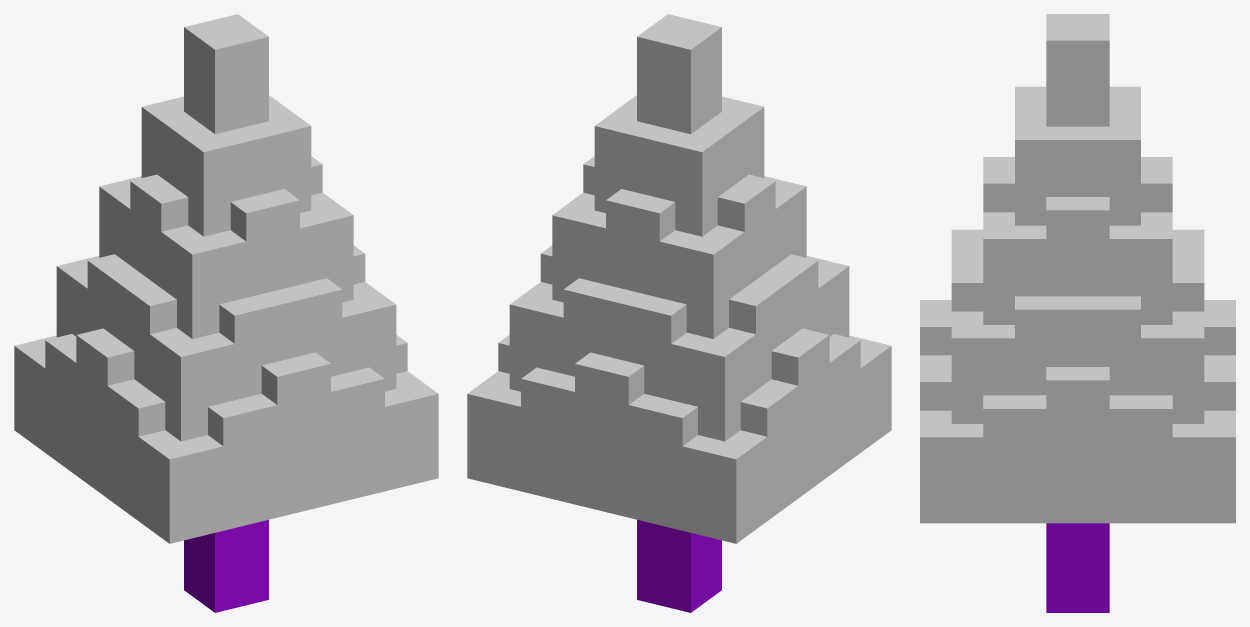
The model's file is Tree.fbx.
The picture shows the model from 3 angles, left to right: view 1: azimuth 30°, elevation 25°; view 2: azimuth 150°, elevation 25°; view 3: azimuth 270°, elevation 25°; orthographic projection.
Visible parts, largest first — view 1: Tree; view 2: Tree; view 3: Tree.
Boxes of the visible parts, box(x1,y1,x2,y2) form: Tree: box(14, 14, 438, 612); Tree: box(467, 14, 891, 612); Tree: box(920, 14, 1235, 612).
Size of the model in its own units: 100 by 200 by 100.
